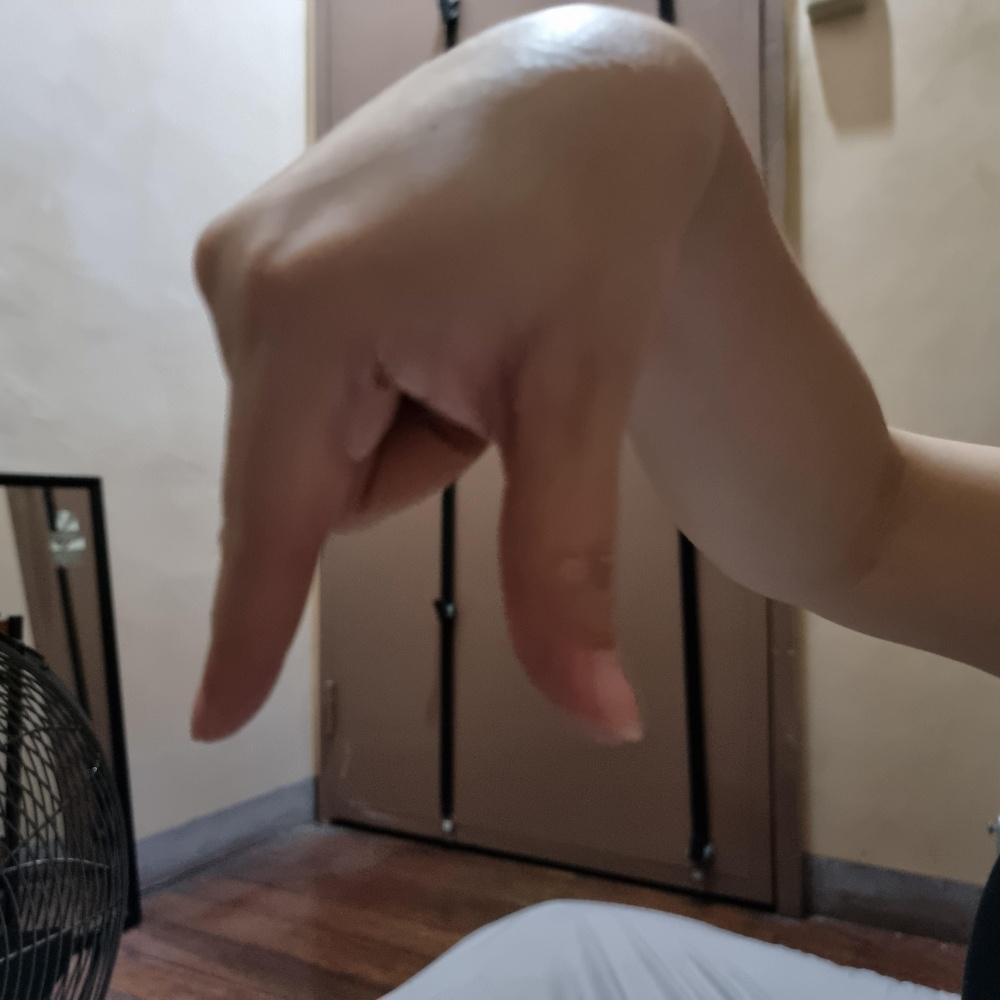q: (179, 0, 724, 753)
